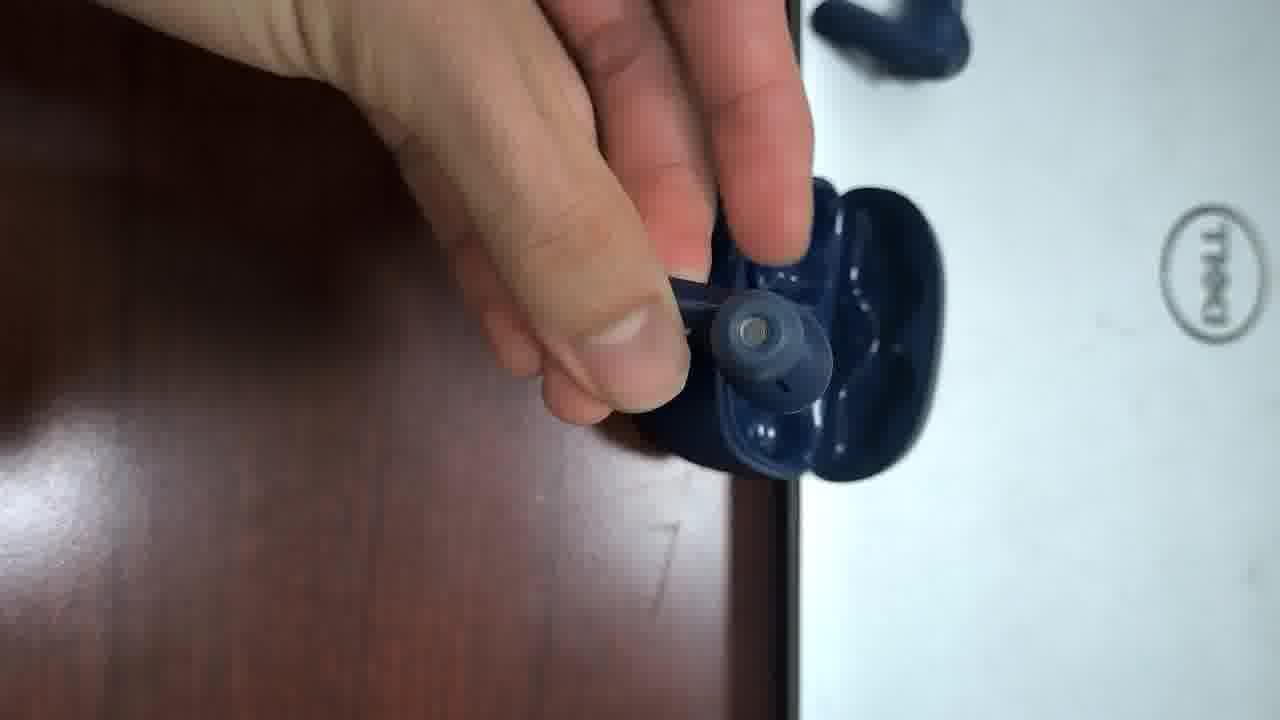Earbud: (672, 277, 832, 412), (810, 0, 969, 77)
